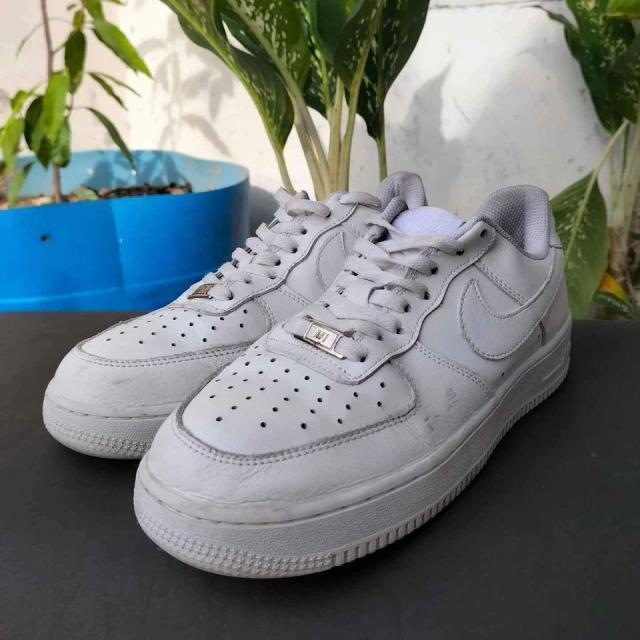nike original air force: (133, 183, 620, 580), (39, 173, 433, 462)
